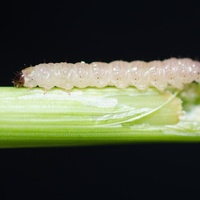insect: (22, 58, 199, 91)
